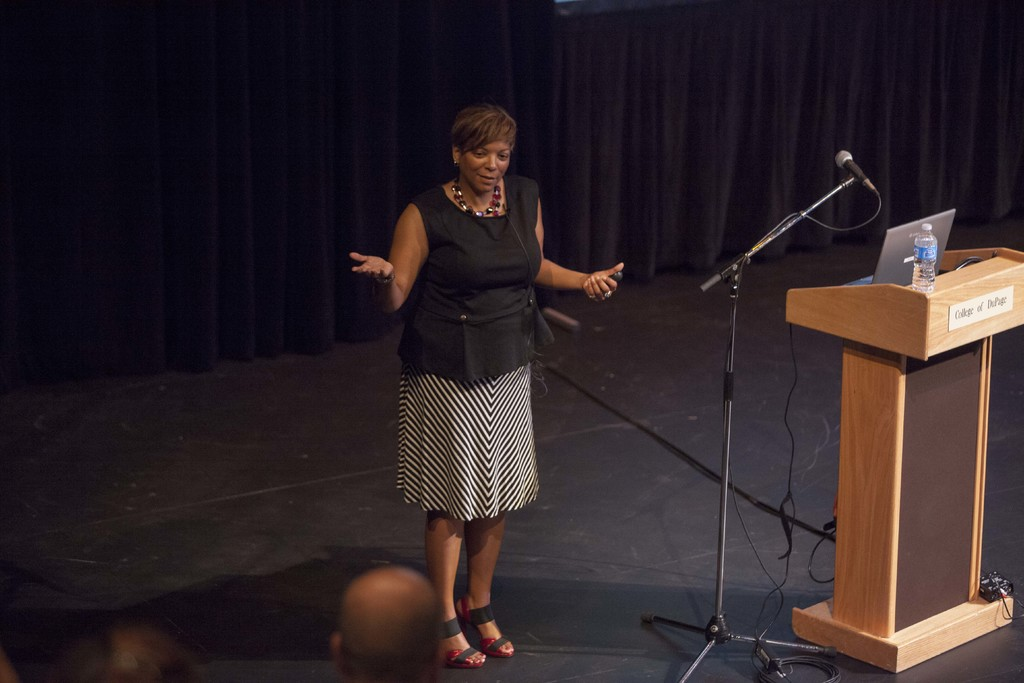Human_hand: (579, 261, 625, 304), (351, 252, 397, 283)
